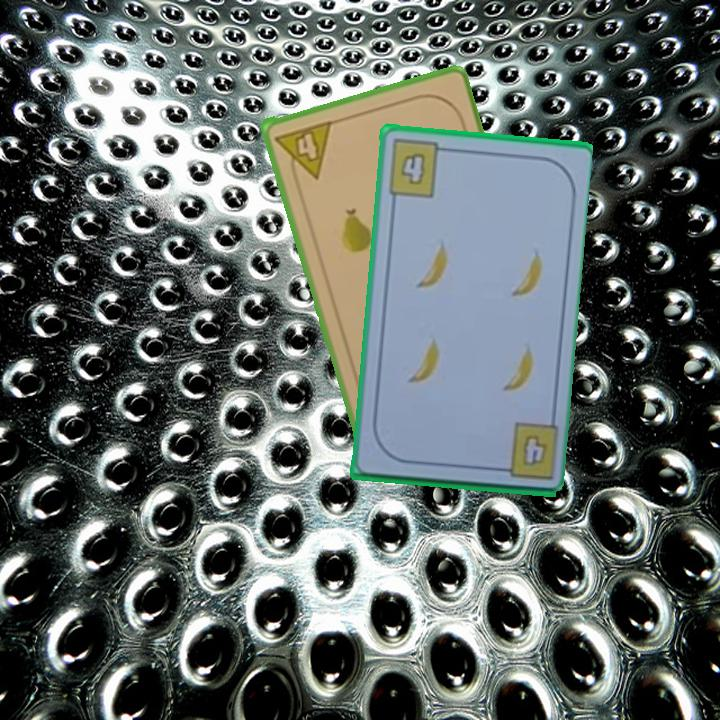4b: (384, 136, 452, 201), (518, 430, 550, 469)
4p: (271, 117, 335, 186)
